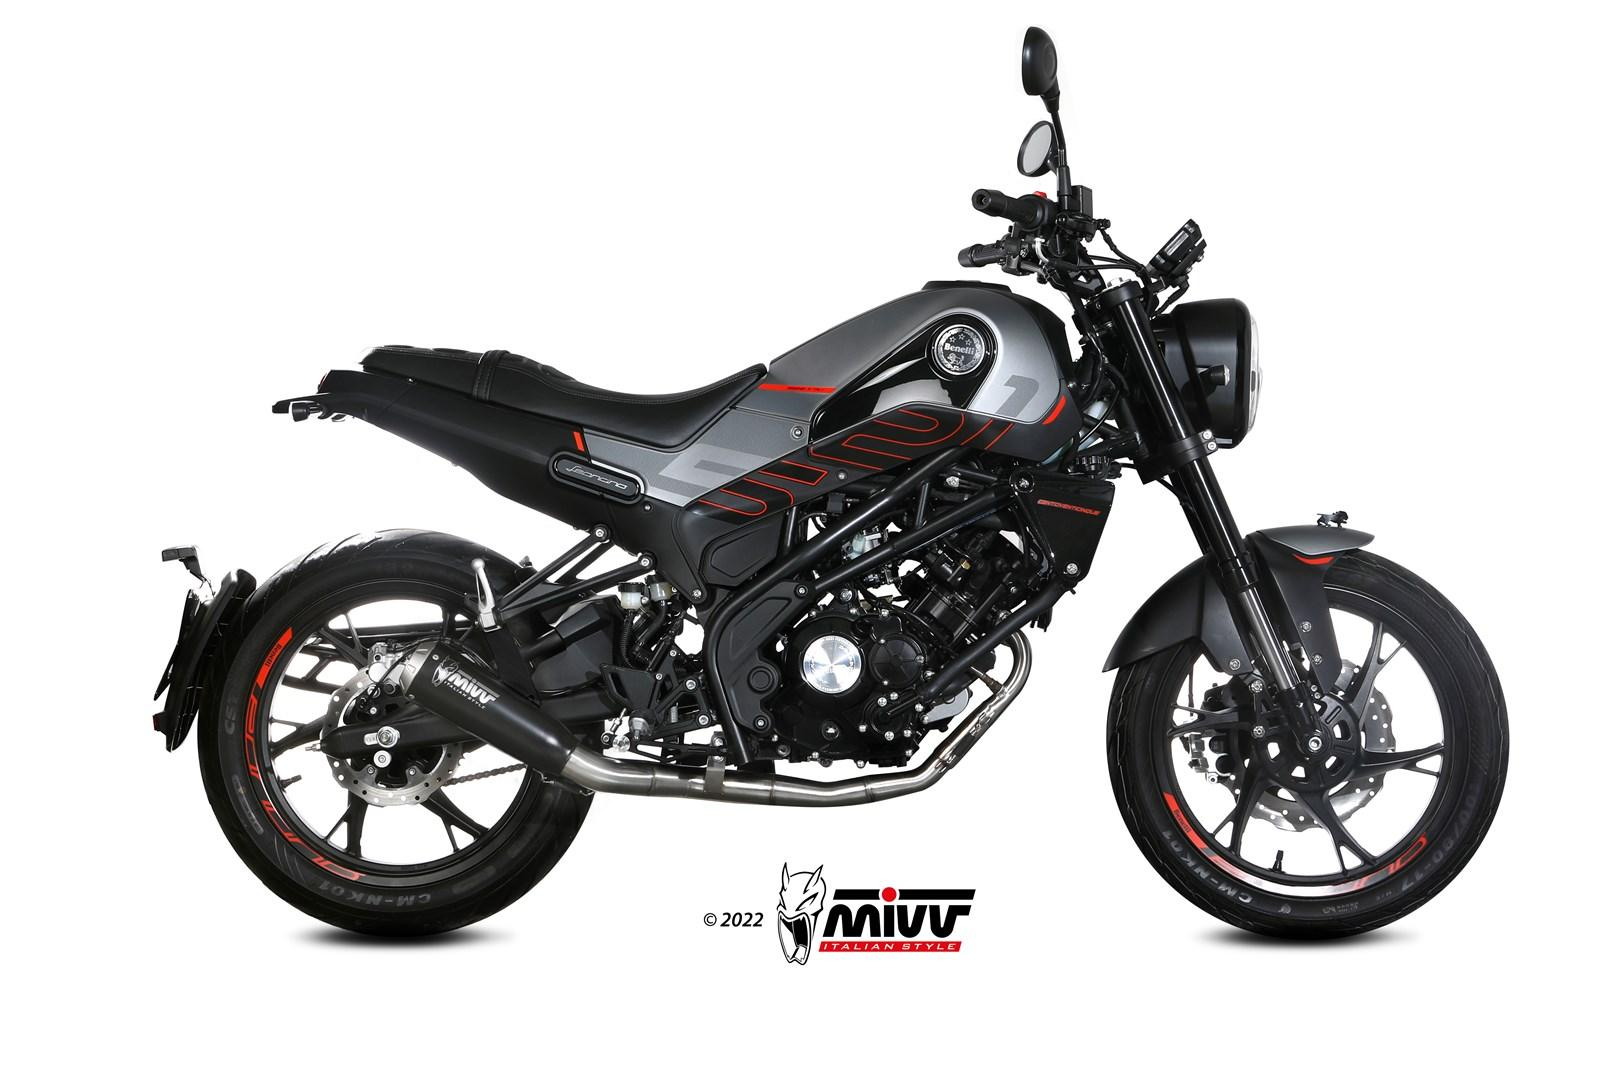engine-chasis: (598, 378, 1083, 769), (639, 610, 701, 673)
exhaust: (399, 623, 1033, 808)
frontside: (1011, 277, 1375, 765)
handlebar: (957, 25, 1209, 321)
motorbike: (153, 27, 1510, 937)
rearside: (272, 368, 811, 744), (152, 544, 257, 753), (671, 641, 704, 682)
seat: (357, 345, 767, 448)
tank: (730, 280, 1080, 447)
watermark: (688, 856, 999, 985)
wheel: (196, 527, 595, 939), (1105, 550, 1510, 941), (440, 763, 528, 787), (1156, 476, 1198, 520), (1187, 665, 1194, 717)
